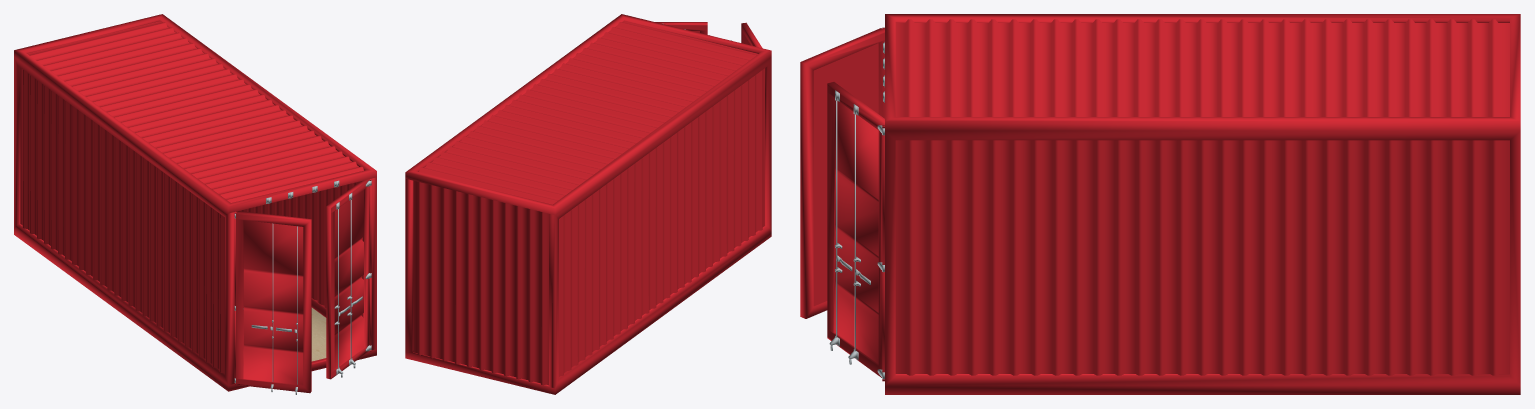
The model's file is container.glb.
3 renders of one model, left to right at view 1: azimuth 30°, elevation 25°; view 2: azimuth 150°, elevation 25°; view 3: azimuth 270°, elevation 25°, orthographic. The views are drawn at different scales.
Visible parts, largest first — view 1: G-476ec975-8c50-4a46-9d0c-b57485347380:04f12ae2-d0a5-4699-80, G-476ec975-8c50-4a46-9d0c-b57485347380:bd9daae5-1522-417c-af, G-476ec975-8c50-4a46-9d0c-b57485347380:edcb59fa-3dc9-4d66-a1, G-476ec975-8c50-4a46-9d0c-b57485347380:ee54a222-91d2-4408-80, G-476ec975-8c50-4a46-9d0c-b57485347380:7cc12337-b47b-45bb-8e, G-476ec975-8c50-4a46-9d0c-b57485347380:7ac14ce6-9246-4cec-bc, G-476ec975-8c50-4a46-9d0c-b57485347380:97e37bf2-1cff-4d54-83, G-476ec975-8c50-4a46-9d0c-b57485347380:7f051d7a-3eb5-407a-bf; view 2: G-476ec975-8c50-4a46-9d0c-b57485347380:04f12ae2-d0a5-4699-80, G-476ec975-8c50-4a46-9d0c-b57485347380:edcb59fa-3dc9-4d66-a1; view 3: G-476ec975-8c50-4a46-9d0c-b57485347380:04f12ae2-d0a5-4699-80, G-476ec975-8c50-4a46-9d0c-b57485347380:edcb59fa-3dc9-4d66-a1, G-476ec975-8c50-4a46-9d0c-b57485347380:7c58186c-2f1b-4326-82, G-476ec975-8c50-4a46-9d0c-b57485347380:bd9daae5-1522-417c-af, G-476ec975-8c50-4a46-9d0c-b57485347380:ee54a222-91d2-4408-80, G-476ec975-8c50-4a46-9d0c-b57485347380:97e37bf2-1cff-4d54-83.
Boxes of the visible parts, bbox=[...] form: G-476ec975-8c50-4a46-9d0c-b57485347380:04f12ae2-d0a5-4699-80: bbox=[14, 14, 376, 391]; G-476ec975-8c50-4a46-9d0c-b57485347380:bd9daae5-1522-417c-af: bbox=[236, 211, 311, 393]; G-476ec975-8c50-4a46-9d0c-b57485347380:edcb59fa-3dc9-4d66-a1: bbox=[326, 179, 369, 379]; G-476ec975-8c50-4a46-9d0c-b57485347380:ee54a222-91d2-4408-80: bbox=[334, 180, 371, 377]; G-476ec975-8c50-4a46-9d0c-b57485347380:7cc12337-b47b-45bb-8e: bbox=[311, 307, 326, 361]; G-476ec975-8c50-4a46-9d0c-b57485347380:7ac14ce6-9246-4cec-bc: bbox=[234, 213, 297, 394]; G-476ec975-8c50-4a46-9d0c-b57485347380:97e37bf2-1cff-4d54-83: bbox=[369, 179, 371, 351]; G-476ec975-8c50-4a46-9d0c-b57485347380:7f051d7a-3eb5-407a-bf: bbox=[234, 211, 236, 384]; G-476ec975-8c50-4a46-9d0c-b57485347380:04f12ae2-d0a5-4699-80: bbox=[405, 14, 771, 394]; G-476ec975-8c50-4a46-9d0c-b57485347380:edcb59fa-3dc9-4d66-a1: bbox=[655, 22, 707, 34]; G-476ec975-8c50-4a46-9d0c-b57485347380:04f12ae2-d0a5-4699-80: bbox=[885, 14, 1520, 394]; G-476ec975-8c50-4a46-9d0c-b57485347380:edcb59fa-3dc9-4d66-a1: bbox=[827, 82, 884, 377]; G-476ec975-8c50-4a46-9d0c-b57485347380:7c58186c-2f1b-4326-82: bbox=[813, 43, 878, 306]; G-476ec975-8c50-4a46-9d0c-b57485347380:bd9daae5-1522-417c-af: bbox=[800, 28, 884, 318]; G-476ec975-8c50-4a46-9d0c-b57485347380:ee54a222-91d2-4408-80: bbox=[829, 90, 884, 379]; G-476ec975-8c50-4a46-9d0c-b57485347380:97e37bf2-1cff-4d54-83: bbox=[882, 125, 884, 381].
Bounding box in the file's own units: 2.44 × 2.9 × 6.91.
3 materials, 1 textured.
